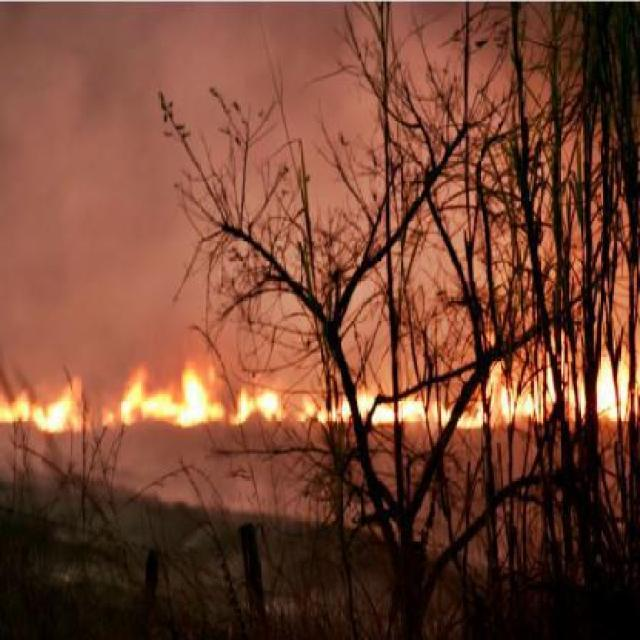Fire: (112, 368, 286, 423), (2, 373, 92, 436), (480, 360, 560, 423), (298, 391, 426, 424), (598, 350, 634, 424), (427, 394, 452, 428), (457, 412, 485, 430)
